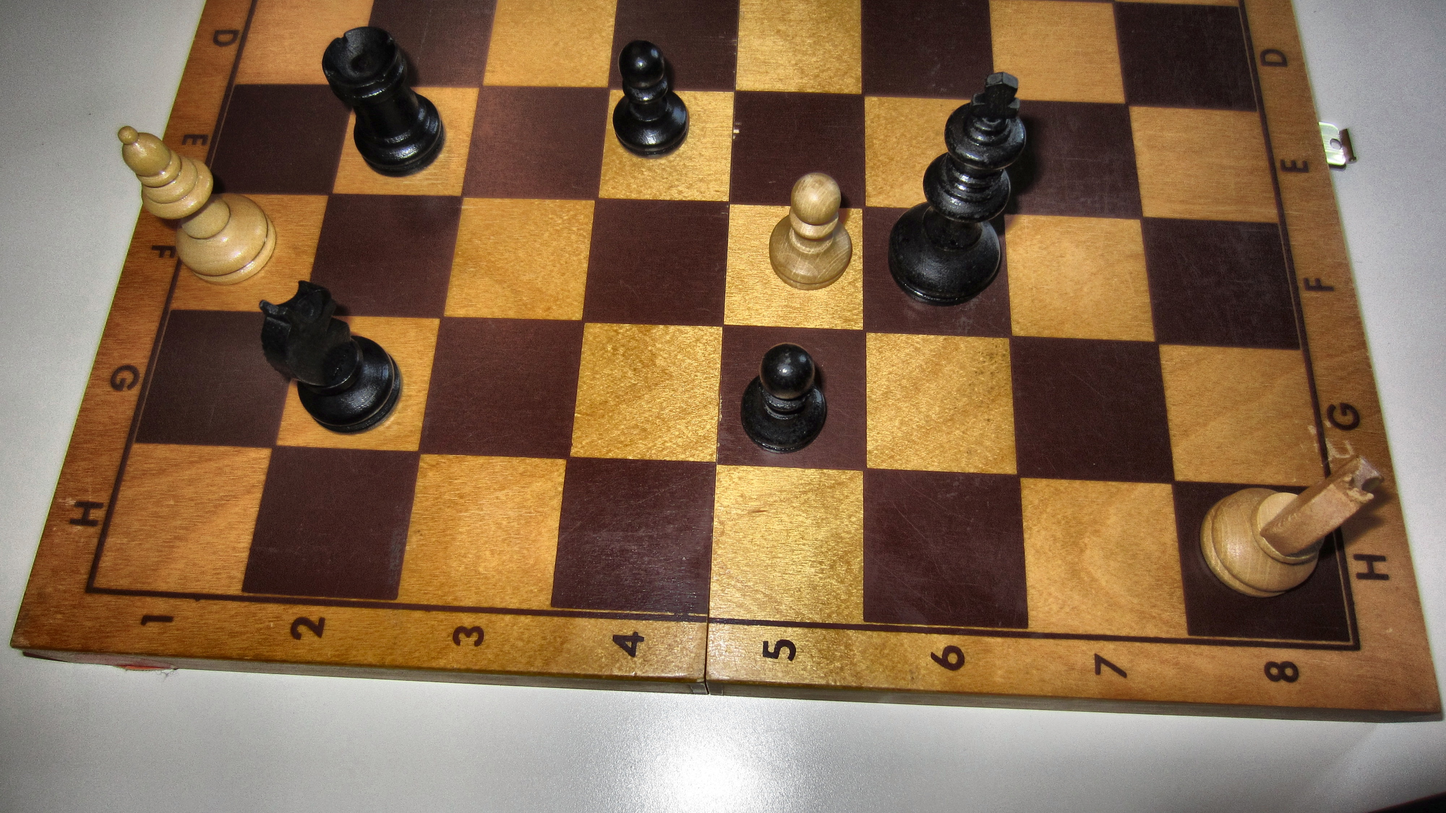black-king: (885, 70, 1030, 307)
black-knight: (256, 278, 402, 436)
black-pawn: (740, 340, 828, 454), (611, 37, 691, 161)
black-rook: (321, 24, 448, 178)
white-bishop: (115, 125, 278, 285)
white-knight: (1196, 454, 1387, 601)
white-pawn: (767, 172, 854, 290)
